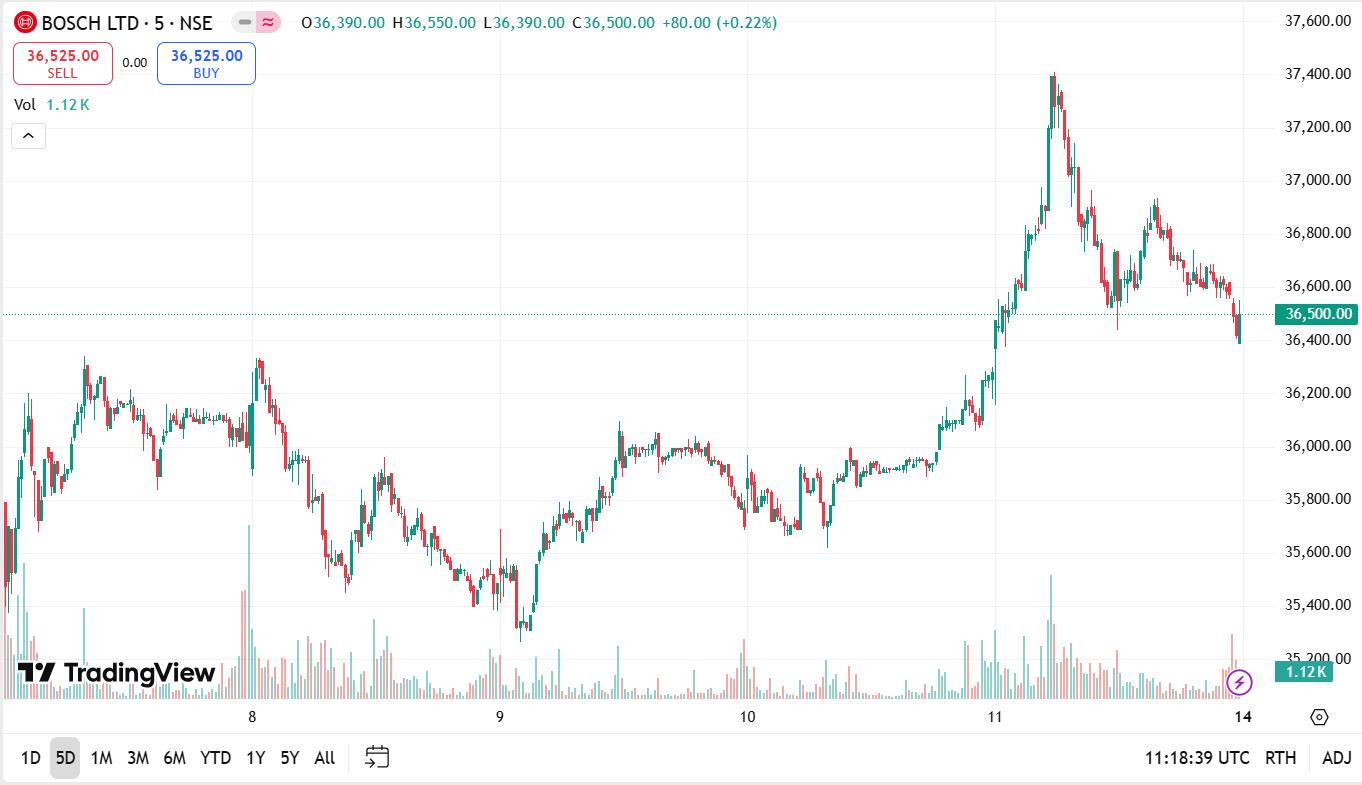Downtrend: (1055, 71, 1239, 353), (379, 455, 517, 647), (256, 349, 349, 617)
Sideways: (743, 438, 829, 544)
Uptrend: (835, 52, 1065, 546), (521, 405, 713, 636), (1, 369, 33, 590), (45, 359, 90, 514)
